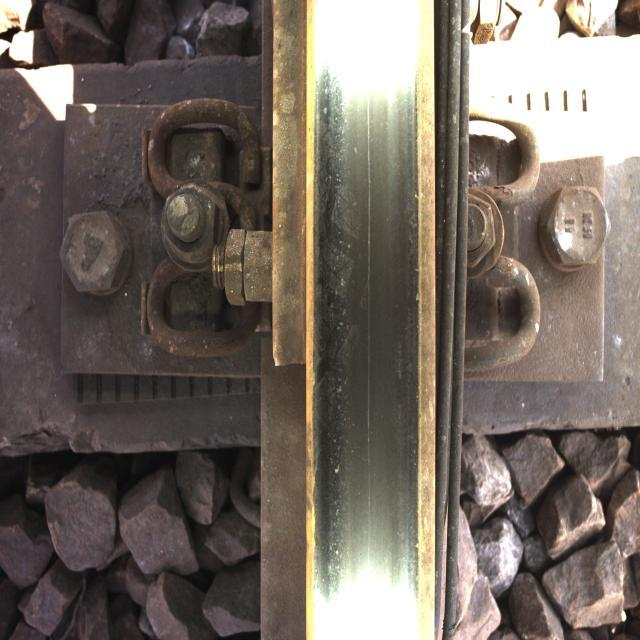normal: (304, 28, 402, 586)
